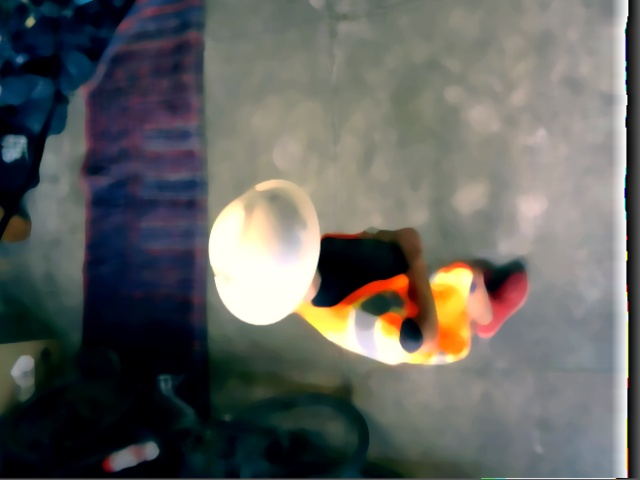three: (212, 269, 244, 302)
